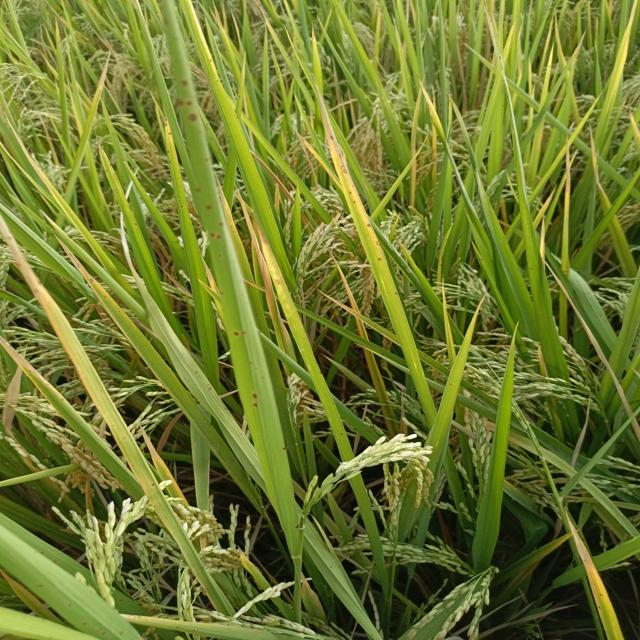Brown spot: (565, 509, 636, 640), (554, 134, 573, 257), (586, 120, 615, 196)
insects: (192, 185, 232, 246), (174, 75, 204, 128), (346, 183, 361, 209), (250, 388, 264, 414), (162, 111, 172, 137), (232, 328, 251, 341), (167, 148, 176, 166), (391, 288, 404, 300), (375, 254, 387, 266), (215, 250, 227, 260), (373, 236, 383, 248), (217, 289, 228, 299), (366, 222, 376, 231), (330, 132, 339, 142), (88, 276, 97, 286), (132, 221, 142, 228), (150, 482, 158, 489), (179, 204, 186, 210), (114, 189, 120, 194)
